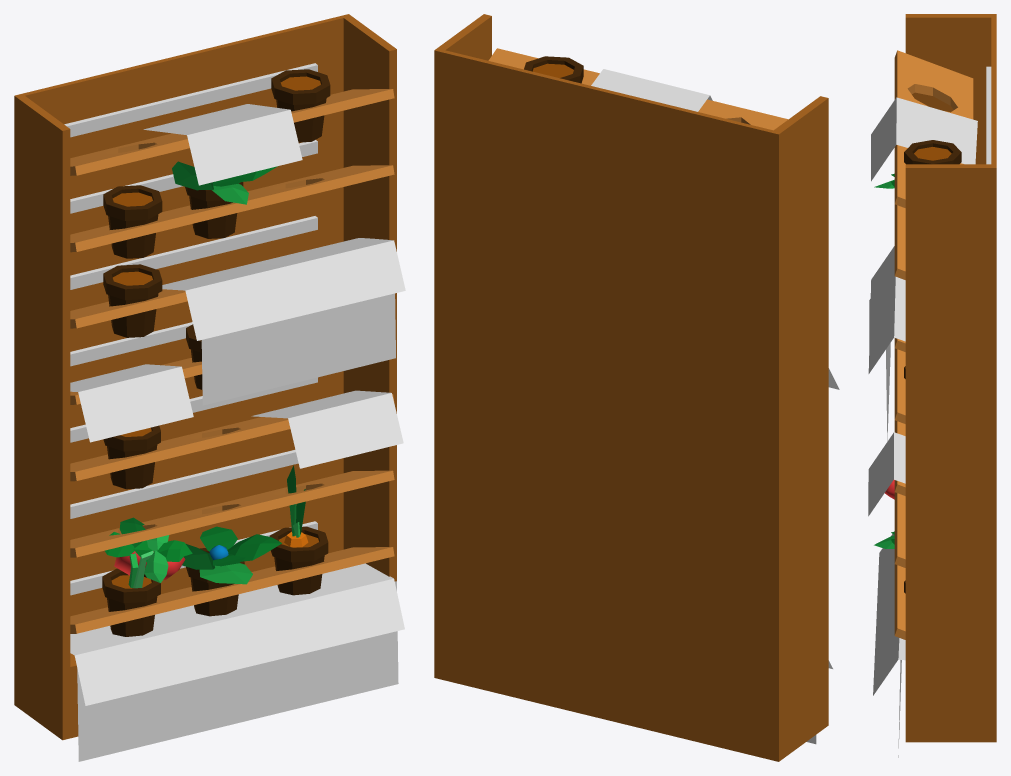
Rendered from PlantShelf.fbx.
The picture shows the model from 3 angles, left to right: view 1: azimuth 30°, elevation 25°; view 2: azimuth 150°, elevation 25°; view 3: azimuth 270°, elevation 25°; orthographic projection. The views are drawn at different scales.
Visible parts, largest first — view 1: PlantShelft; view 2: PlantShelft; view 3: PlantShelft.
Boxes of the visible parts, x1,y1,x2,y2 form: PlantShelft: (14,14,405,761); PlantShelft: (434,14,839,761); PlantShelft: (868,14,996,757).
Size of the model in its own units: 2000 by 3614 by 704.
